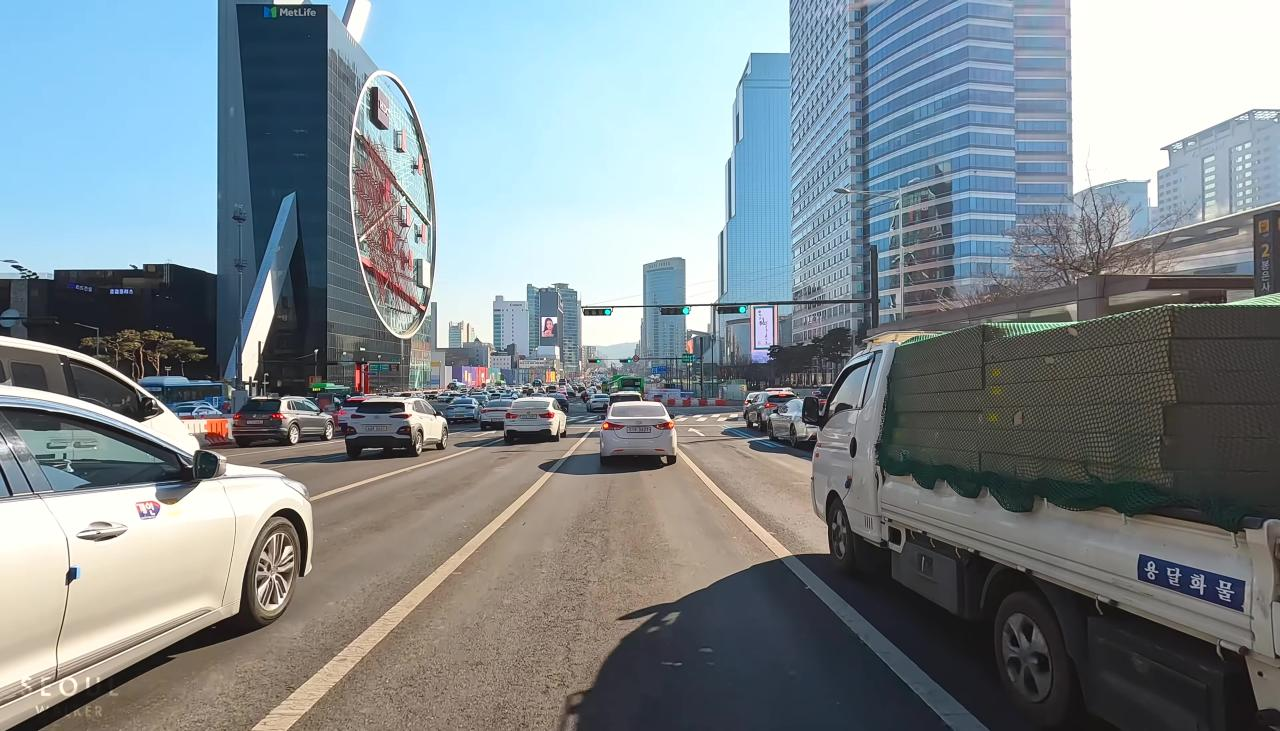Green Light: (681, 307, 690, 315), (604, 309, 611, 316), (739, 307, 746, 313)
